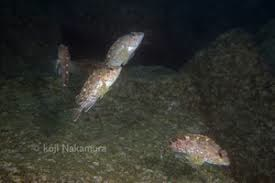saba: (165, 131, 236, 168)
